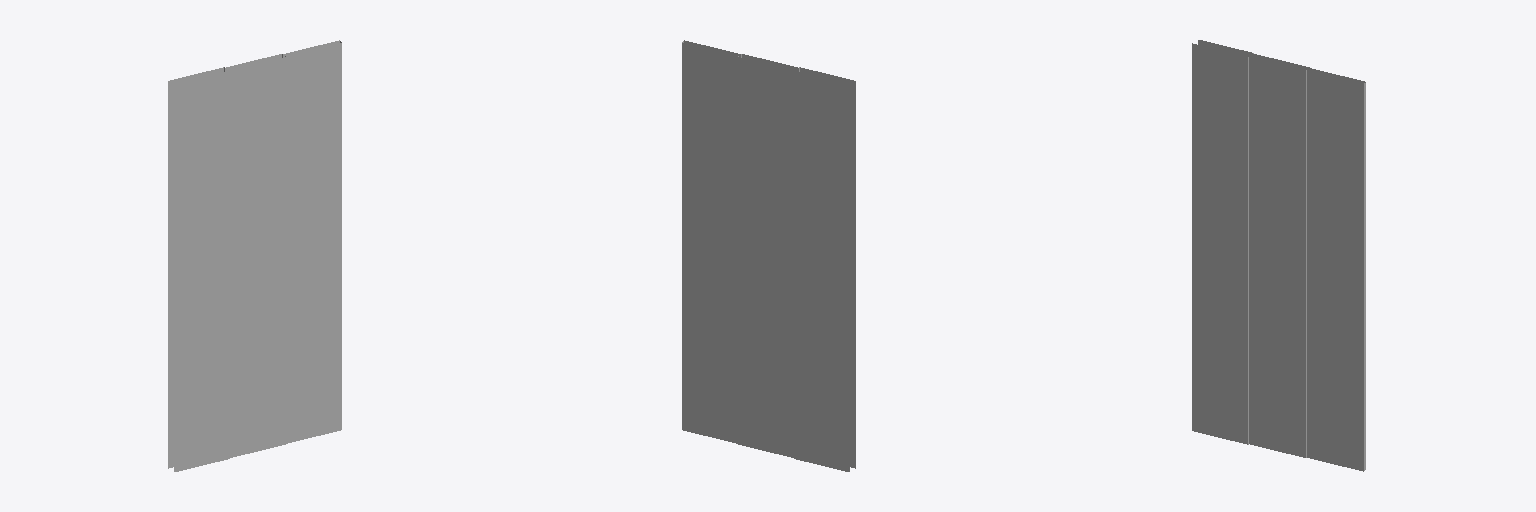
File: Elevator Door Left.obj
3 renders of one model, left to right at view 1: azimuth 30°, elevation 25°; view 2: azimuth 150°, elevation 25°; view 3: azimuth 330°, elevation 25°, orthographic.
Parts seen in each view (by area): view 1: Elevator_Door.001_Elevator_Door; view 2: Elevator_Door.001_Elevator_Door; view 3: Elevator_Door.001_Elevator_Door.
Part boxes in pixels (x1,y1,x2,y2): Elevator_Door.001_Elevator_Door: (168,40,341,471); Elevator_Door.001_Elevator_Door: (682,40,855,471); Elevator_Door.001_Elevator_Door: (1192,40,1365,471).
Bounding box in the file's own units: 0.9093 × 1.98 × 0.0508.